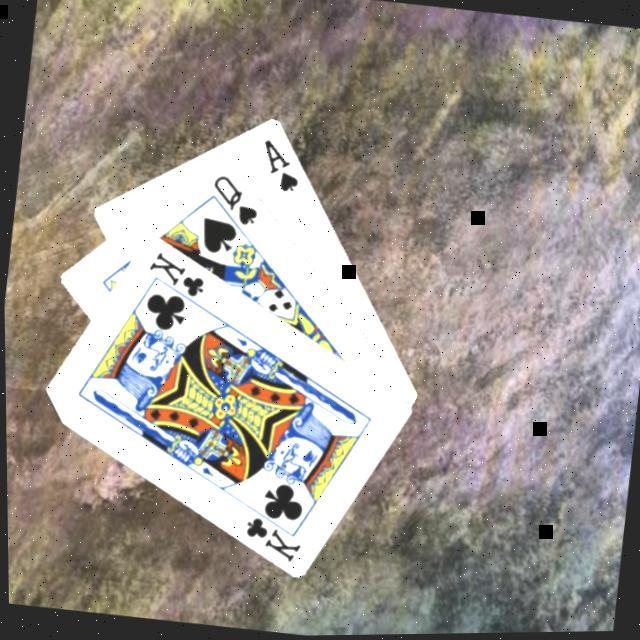AS: (256, 135, 308, 198)
KC: (140, 247, 212, 313), (238, 502, 308, 568)
QS: (206, 170, 266, 232)
